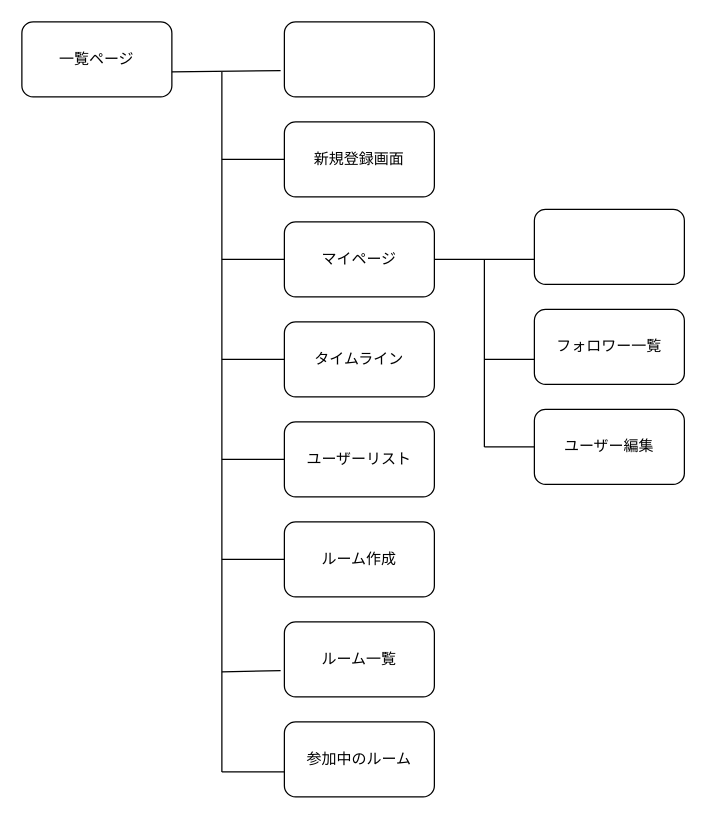
The diagram is 706 pixels wide and 819 high, and some of its shapes have lost their labels. Here are the shapes that lost their labels. From the top down, the box of each, then its label:
(283, 21, 434, 97): ログイン画面
(533, 208, 684, 284): フォロー一覧
